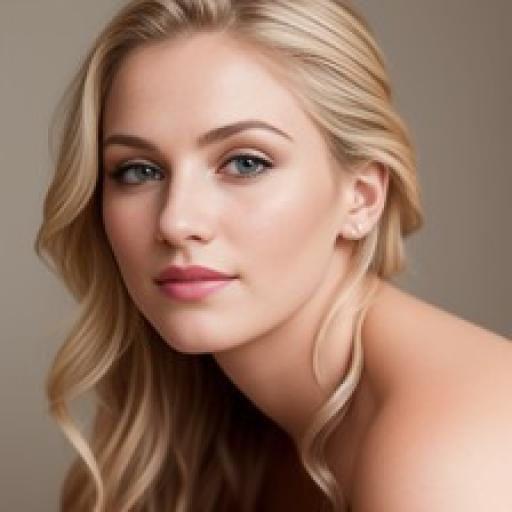human: (10, 0, 512, 512)
